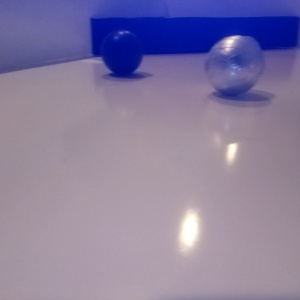zone: (1, 18, 181, 70)
